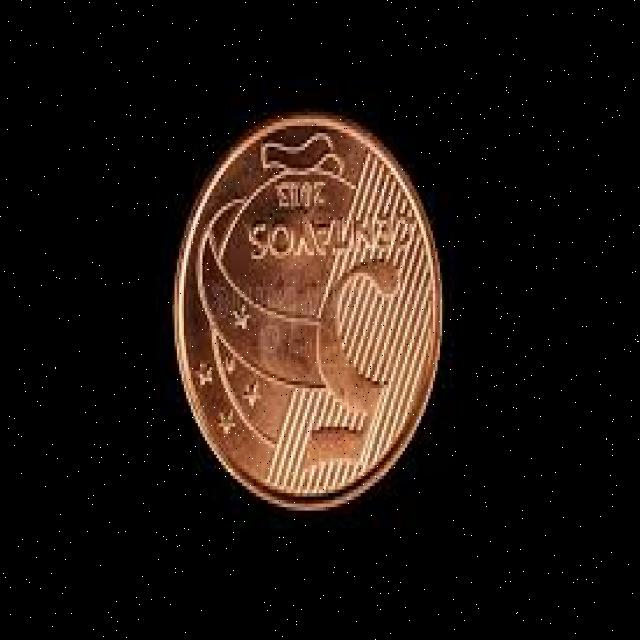5 cent: (172, 111, 444, 512)
